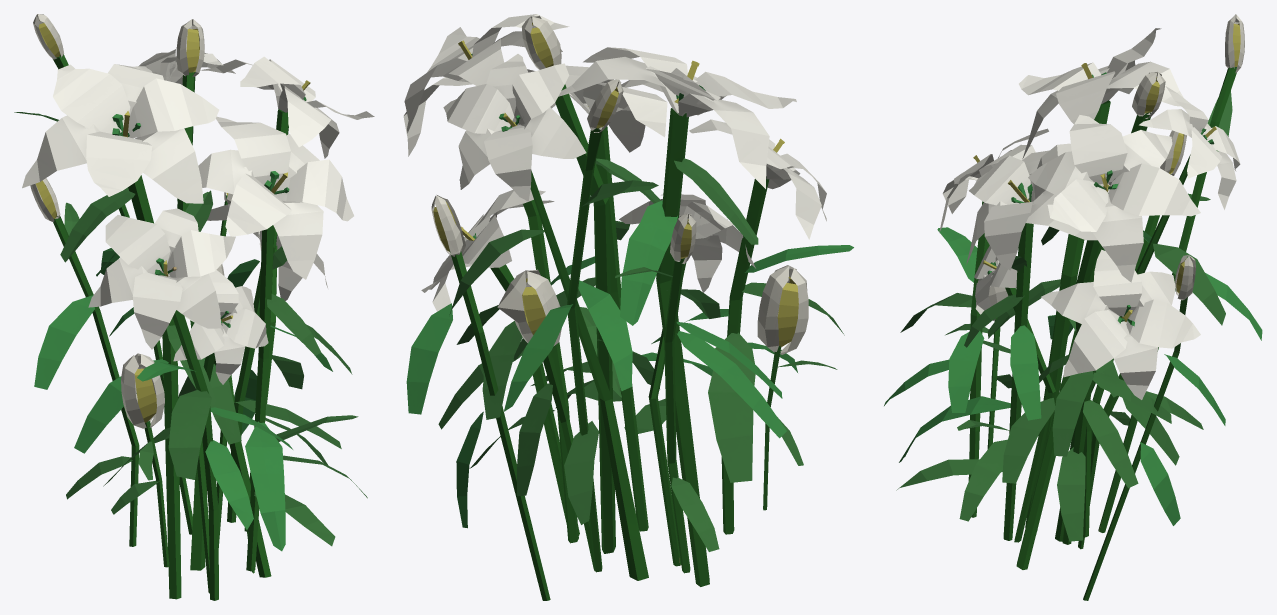
The model's file is Plant05_Uvd.fbx.
The picture shows the model from 3 angles, left to right: view 1: azimuth 30°, elevation 25°; view 2: azimuth 150°, elevation 25°; view 3: azimuth 270°, elevation 25°; orthographic projection. The views are drawn at different scales.
Parts seen in each view (by area): view 1: Flower04Plant; view 2: Flower04Plant; view 3: Flower04Plant.
Part boxes in pixels (bbox=[...]): Flower04Plant: bbox=[14, 14, 374, 600]; Flower04Plant: bbox=[403, 14, 853, 600]; Flower04Plant: bbox=[884, 14, 1262, 600].
Bounding box in the file's own units: 52.41 × 85.57 × 56.49.
Materials: 1 (1 with a texture image).
